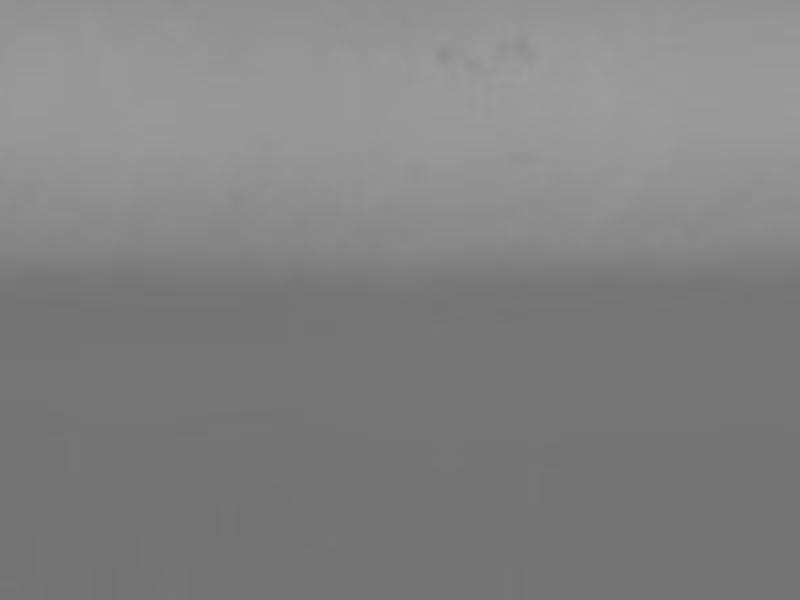defect: (494, 35, 544, 71), (461, 54, 491, 74), (434, 40, 451, 65)
